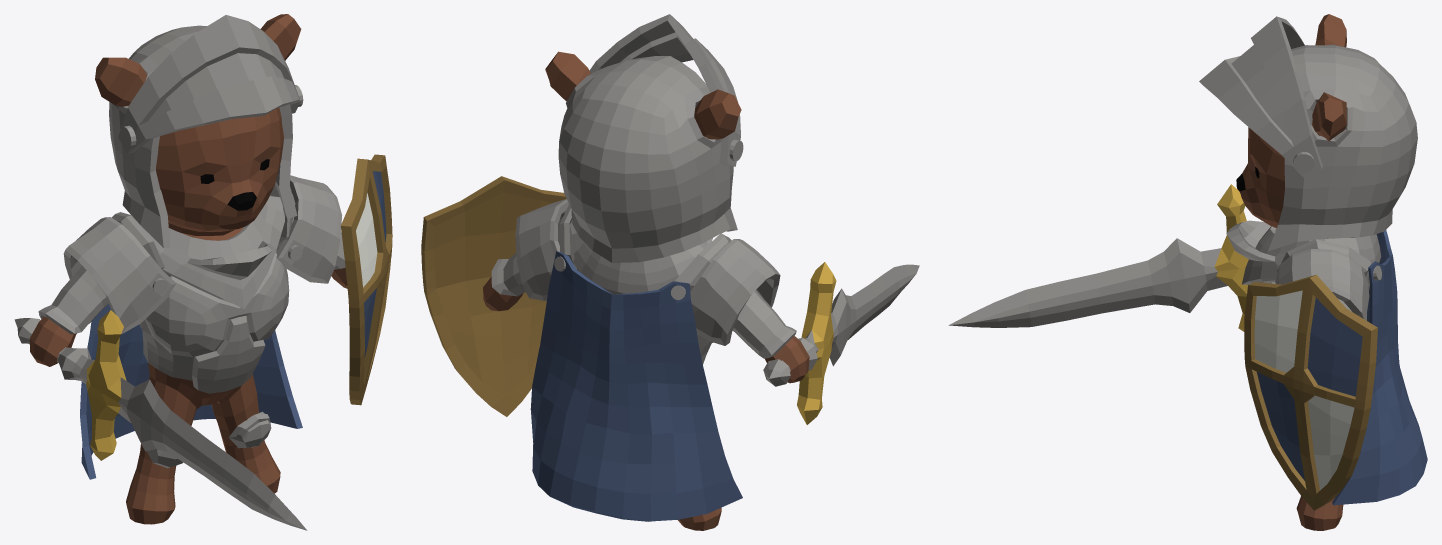
The model's file is 3D_Modell_Veteran_LP_v1.fbx.
3 views of the same model, side by side, from view 1: azimuth 30°, elevation 25°; view 2: azimuth 150°, elevation 25°; view 3: azimuth 270°, elevation 25° (orthographic). The views are drawn at different scales.
Parts seen in each view (by area): view 1: Veteran_LP.001; view 2: Veteran_LP.001; view 3: Veteran_LP.001.
Part boxes in pixels (x1,y1,x2,y2): Veteran_LP.001: [14, 14, 392, 530]; Veteran_LP.001: [421, 14, 919, 530]; Veteran_LP.001: [948, 14, 1427, 530].
Bounding box in the file's own units: 743 × 950 × 850.
